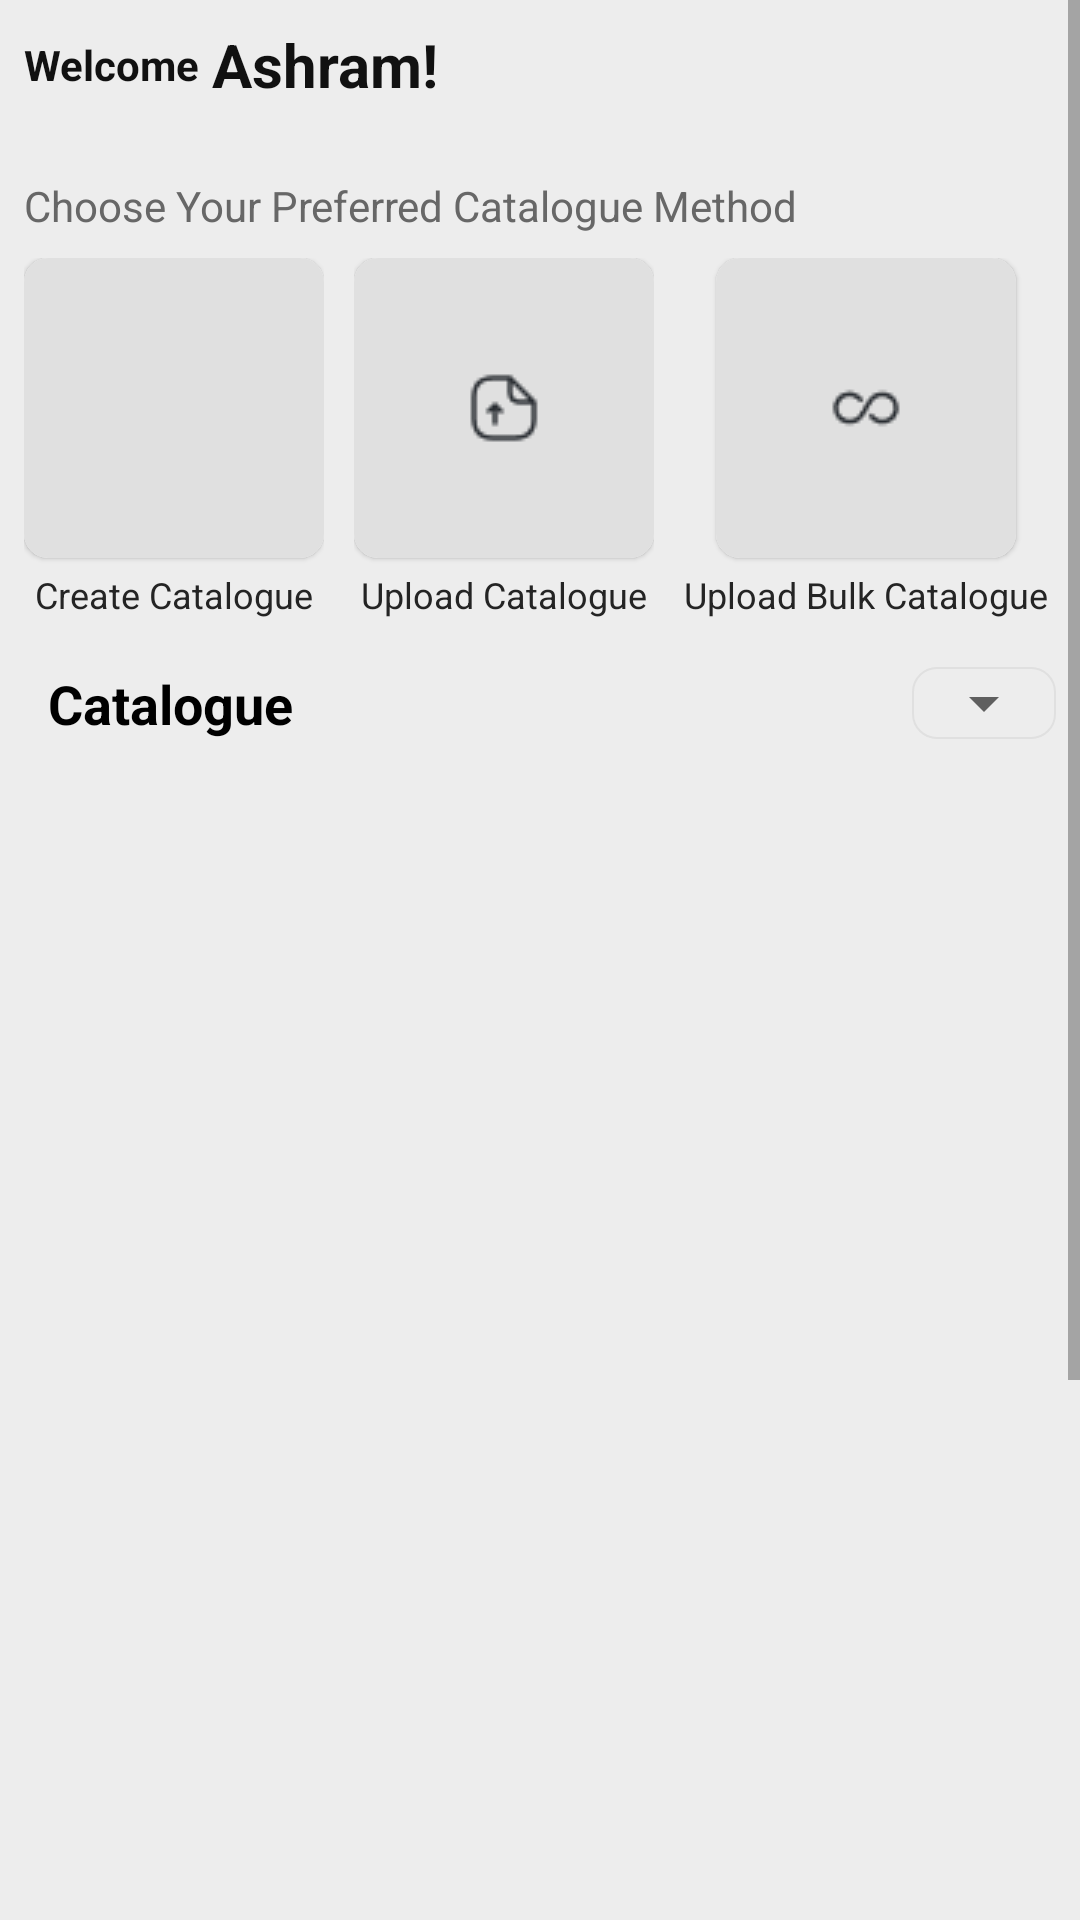

Named icons in this screenshot (1080x1920) and their bounding boxes, [left=x1, top=y1, right=x2, bottom=y2]:
document upload: [left=470, top=374, right=538, bottom=442]
unlimited: [left=832, top=390, right=900, bottom=426]
